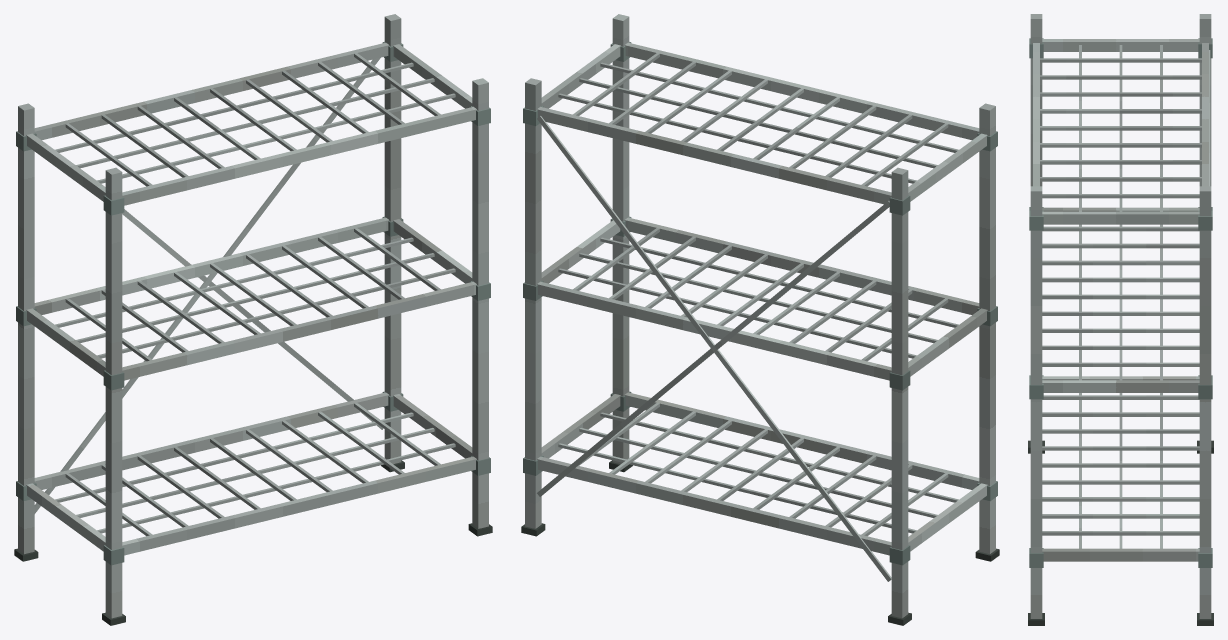
File: iron-3-silver.glb
The picture shows the model from 3 angles, left to right: view 1: azimuth 30°, elevation 25°; view 2: azimuth 150°, elevation 25°; view 3: azimuth 270°, elevation 25°; orthographic projection. The views are drawn at different scales.
Parts seen in each view (by area): view 1: iron-3-silver/post-0-0, iron-3-silver/post-1-0, iron-3-silver/post-0-1, iron-3-silver/post-1-1, iron-3-silver/L2-rim-frontback--1, iron-3-silver/L3-rim-frontback--1, iron-3-silver/L1-rim-frontback--1, iron-3-silver/L3-rim-frontback-1, iron-3-silver/L1-rim-frontback-1, iron-3-silver/L2-rim-frontback-1, iron-3-silver/rear-brace-a, iron-3-silver/rear-brace-b (+15 smaller); view 2: iron-3-silver/post-0-1, iron-3-silver/post-0-0, iron-3-silver/post-1-1, iron-3-silver/post-1-0, iron-3-silver/L3-rim-frontback-1, iron-3-silver/L2-rim-frontback-1, iron-3-silver/L1-rim-frontback-1, iron-3-silver/L3-rim-frontback--1, iron-3-silver/L2-rim-frontback--1, iron-3-silver/L1-rim-frontback--1, iron-3-silver/rear-brace-a, iron-3-silver/rear-brace-b (+15 smaller); view 3: iron-3-silver/post-1-0, iron-3-silver/post-1-1, iron-3-silver/L1-rim-side-1, iron-3-silver/L3-rim-side-1, iron-3-silver/L2-rim-side-1, iron-3-silver/L3-rim-side--1, iron-3-silver/post-0-0, iron-3-silver/L3-rim-frontback--1, iron-3-silver/L3-rim-frontback-1, iron-3-silver/L2-grid-depth-1, iron-3-silver/L2-grid-depth-2, iron-3-silver/L2-grid-depth-3 (+36 smaller).
Part boxes in pixels (<box>): iron-3-silver/post-0-0: <box>105,167,122,618</box>; iron-3-silver/post-1-0: <box>472,78,488,528</box>; iron-3-silver/post-0-1: <box>18,103,34,554</box>; iron-3-silver/post-1-1: <box>384,14,401,464</box>; iron-3-silver/L2-rim-frontback--1: <box>122,281,476,380</box>; iron-3-silver/L3-rim-frontback--1: <box>122,106,476,205</box>; iron-3-silver/L1-rim-frontback--1: <box>122,456,476,555</box>; iron-3-silver/L3-rim-frontback-1: <box>34,42,389,140</box>; iron-3-silver/L1-rim-frontback-1: <box>34,392,389,489</box>; iron-3-silver/L2-rim-frontback-1: <box>34,217,389,314</box>; iron-3-silver/rear-brace-a: <box>34,57,380,513</box>; iron-3-silver/rear-brace-b: <box>122,209,383,429</box>; iron-3-silver/post-0-1: <box>891,167,908,618</box>; iron-3-silver/post-0-0: <box>979,103,995,554</box>; iron-3-silver/post-1-1: <box>525,78,541,528</box>; iron-3-silver/post-1-0: <box>612,14,629,464</box>; iron-3-silver/L3-rim-frontback-1: <box>537,106,891,204</box>; iron-3-silver/L2-rim-frontback-1: <box>537,281,891,380</box>; iron-3-silver/L1-rim-frontback-1: <box>537,456,891,555</box>; iron-3-silver/L3-rim-frontback--1: <box>624,42,979,140</box>; iron-3-silver/L2-rim-frontback--1: <box>624,217,979,314</box>; iron-3-silver/L1-rim-frontback--1: <box>624,392,979,489</box>; iron-3-silver/rear-brace-a: <box>537,116,891,581</box>; iron-3-silver/rear-brace-b: <box>537,201,889,496</box>; iron-3-silver/post-1-0: <box>1030,186,1042,618</box>; iron-3-silver/post-1-1: <box>1199,186,1211,618</box>; iron-3-silver/L1-rim-side-1: <box>1042,548,1199,561</box>; iron-3-silver/L3-rim-side-1: <box>1042,211,1199,224</box>; iron-3-silver/L2-rim-side-1: <box>1042,380,1199,392</box>; iron-3-silver/L3-rim-side--1: <box>1042,39,1199,51</box>; iron-3-silver/post-0-0: <box>1030,14,1042,186</box>; iron-3-silver/L3-rim-frontback--1: <box>1033,43,1039,186</box>; iron-3-silver/L3-rim-frontback-1: <box>1202,43,1208,186</box>; iron-3-silver/L2-grid-depth-1: <box>1042,243,1199,248</box>; iron-3-silver/L2-grid-depth-2: <box>1042,260,1199,265</box>; iron-3-silver/L2-grid-depth-3: <box>1042,277,1199,282</box>.
Bounding box in the file's own units: 1 × 1.12 × 0.4375.
4 materials, 4 textured.
